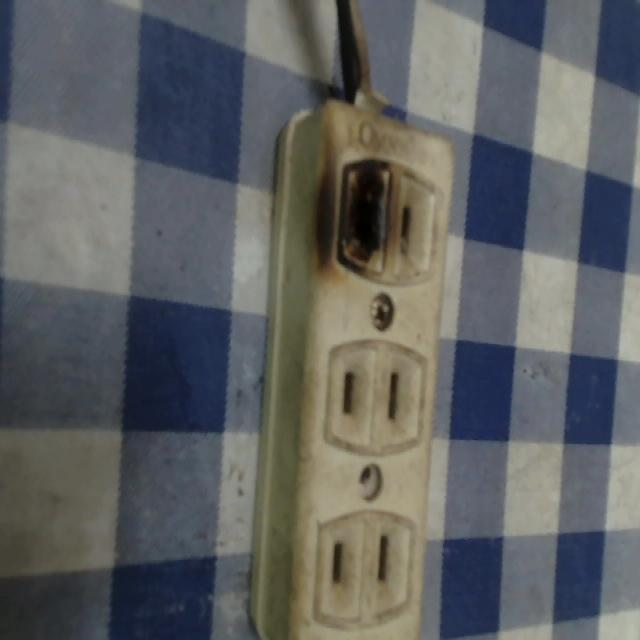-: (321, 140, 399, 296)
